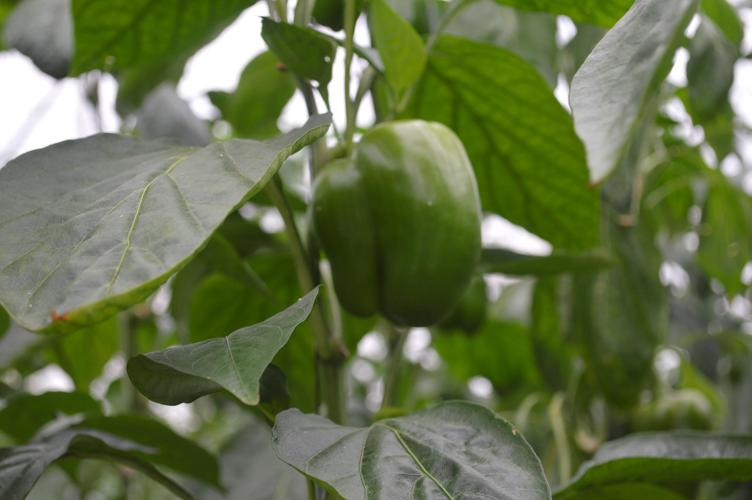BellPepper: (308, 120, 482, 326)
